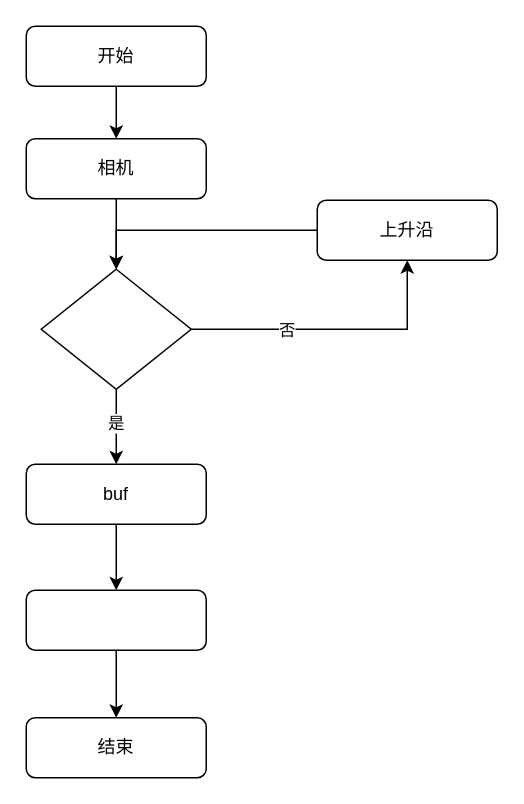
This 524x804 diagram has some shape labels left out. The centre of each missing label's shape, as x and y in pixels:
"数据准备就绪 ?" goes at (115,328).
"显示" goes at (115,619).
